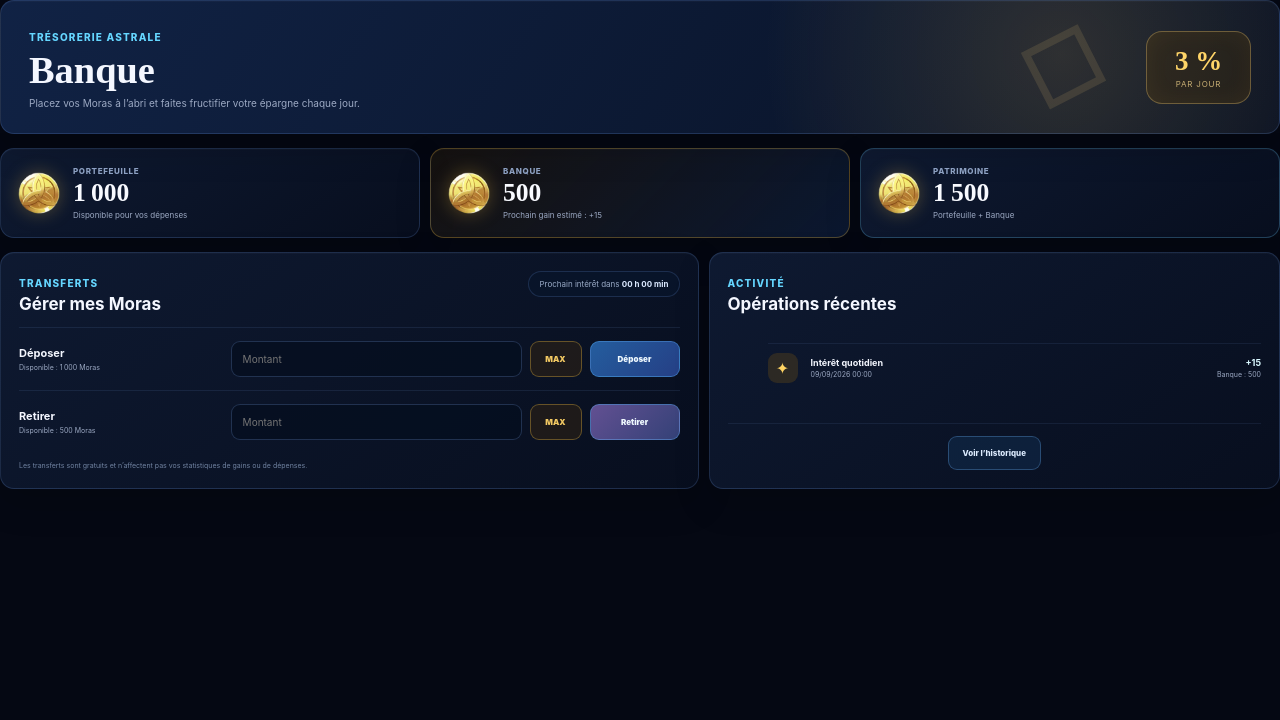
Test case: Bank screen › opens a paginated personal history modal with a fixed footer and interest wallet placeholder
Click the button "Voir l’historique".
click(994, 453)  # box [948,436,1041,470]
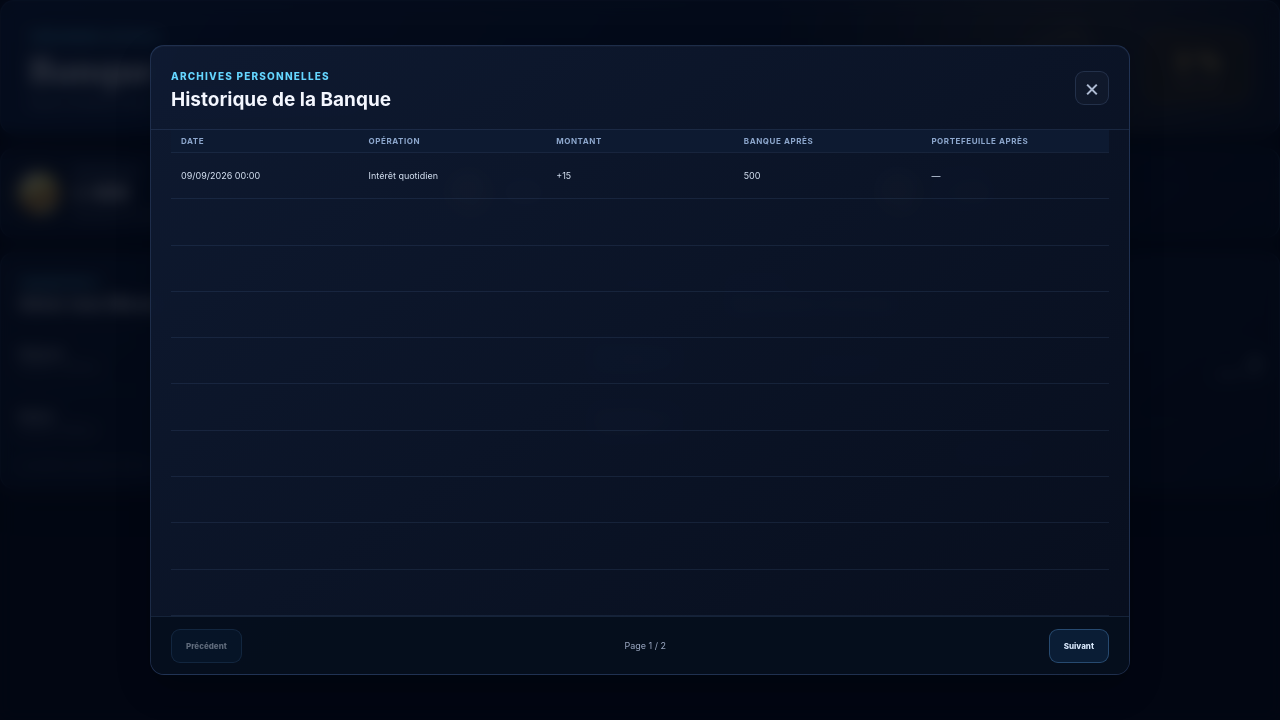
Result: the dialog is shown
Result: the text "Historique de la Banque" is shown at [171,88,391,111]
Result: the text "Portefeuille après" is shown at [921,130,1109,152]
Click the button "Suivant".
click(1079, 646)  # box [1049,628,1109,662]
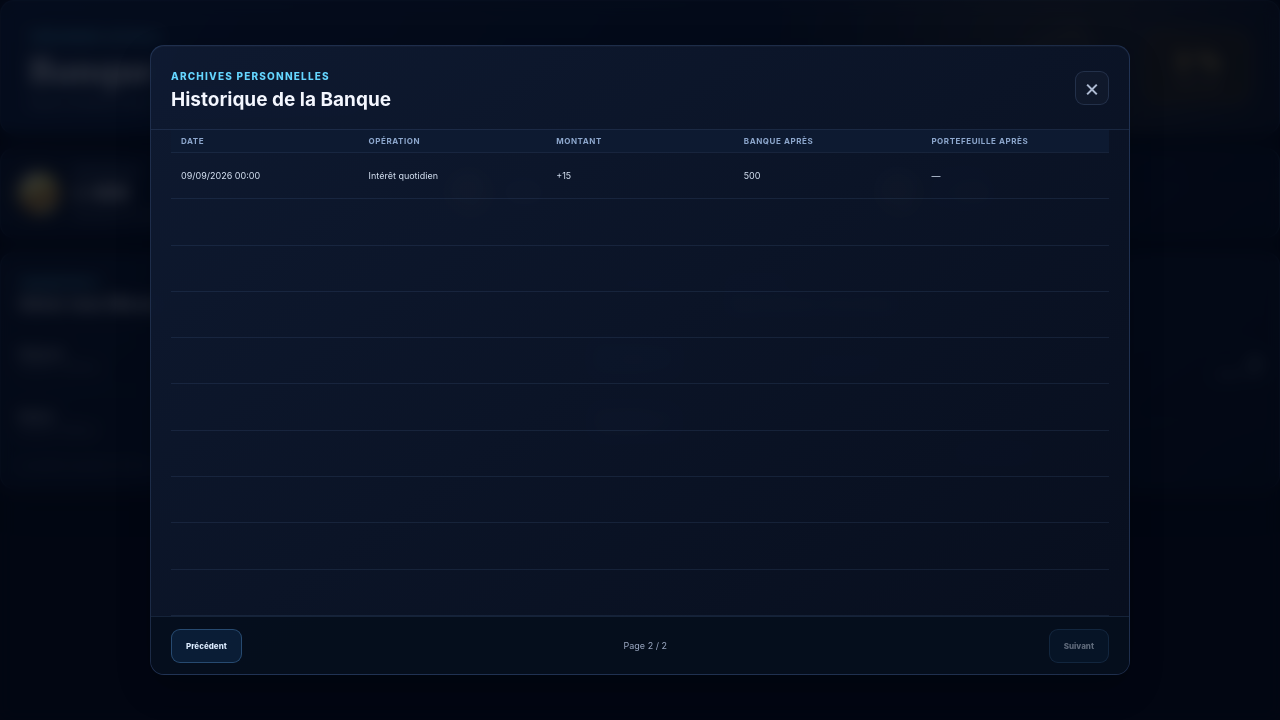
Result: the text "Page 2 / 2" is shown at [624,640,667,651]
Click the button named "Fermer l’historique".
click(1092, 88)  # box [1075,70,1109,104]
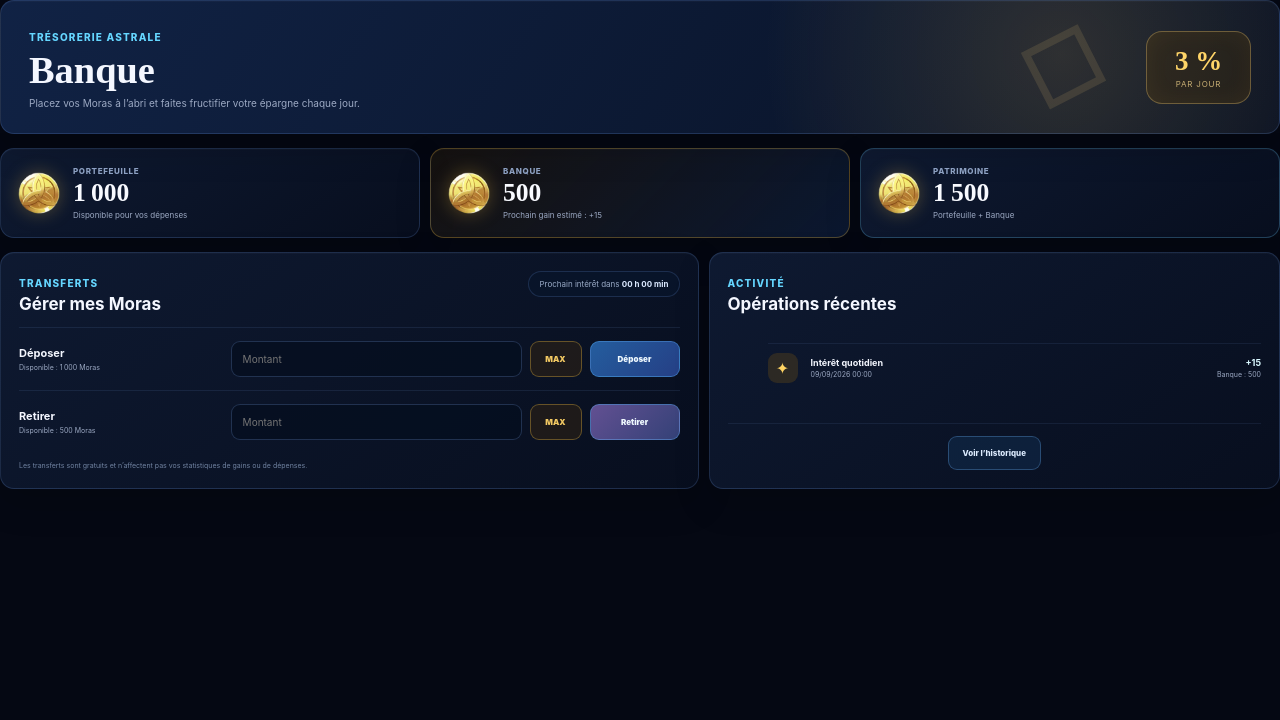
Result: the dialog is gone
